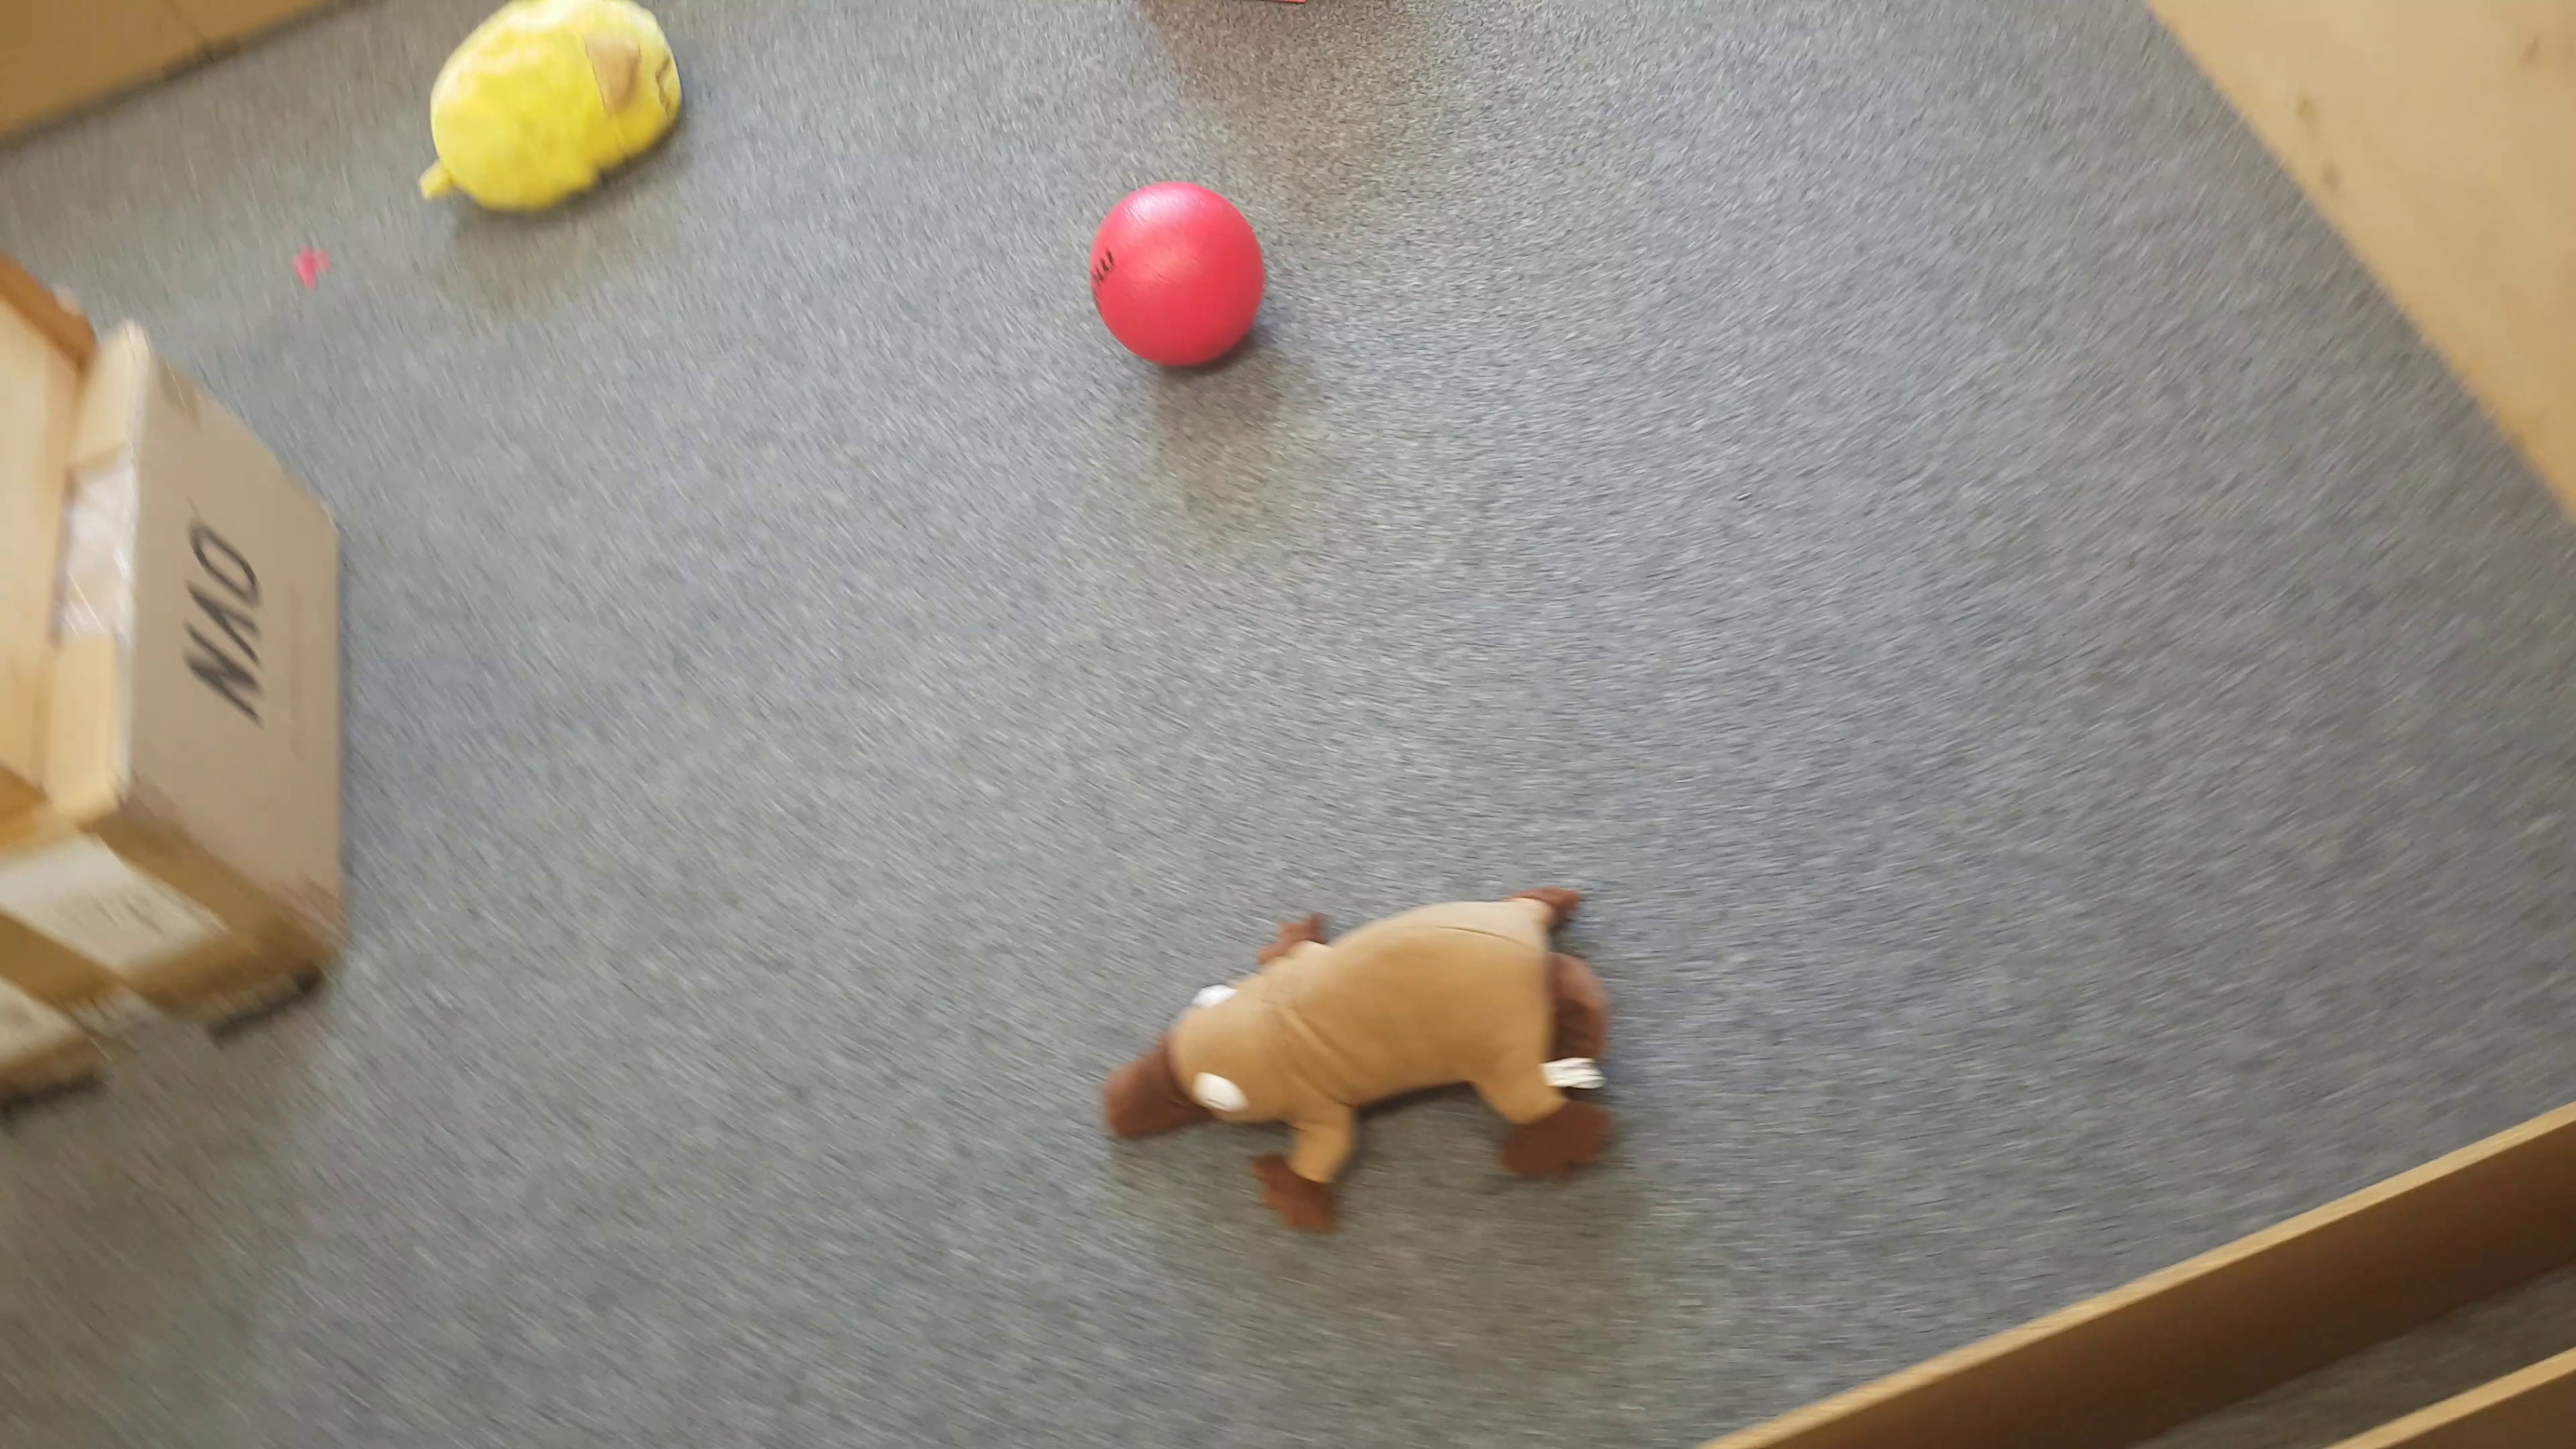grasp: (1102, 885, 1619, 1226), (410, 0, 679, 223)
kick: (1088, 186, 1270, 375)
